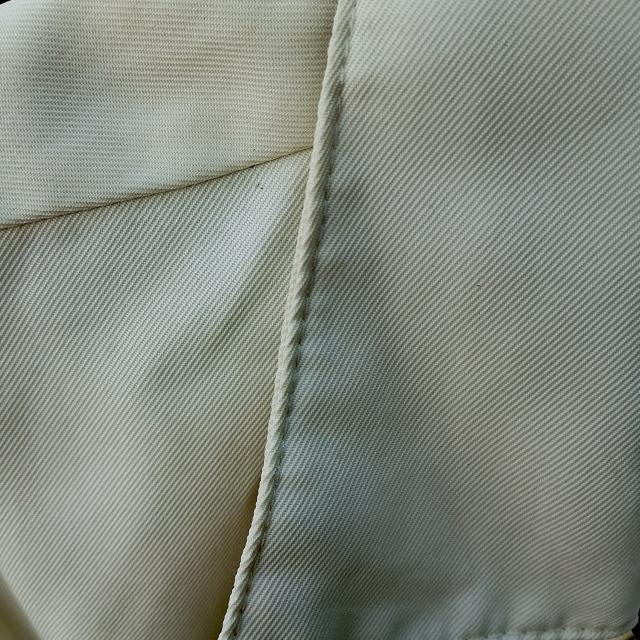education_male_uniform: (3, 5, 640, 635)
